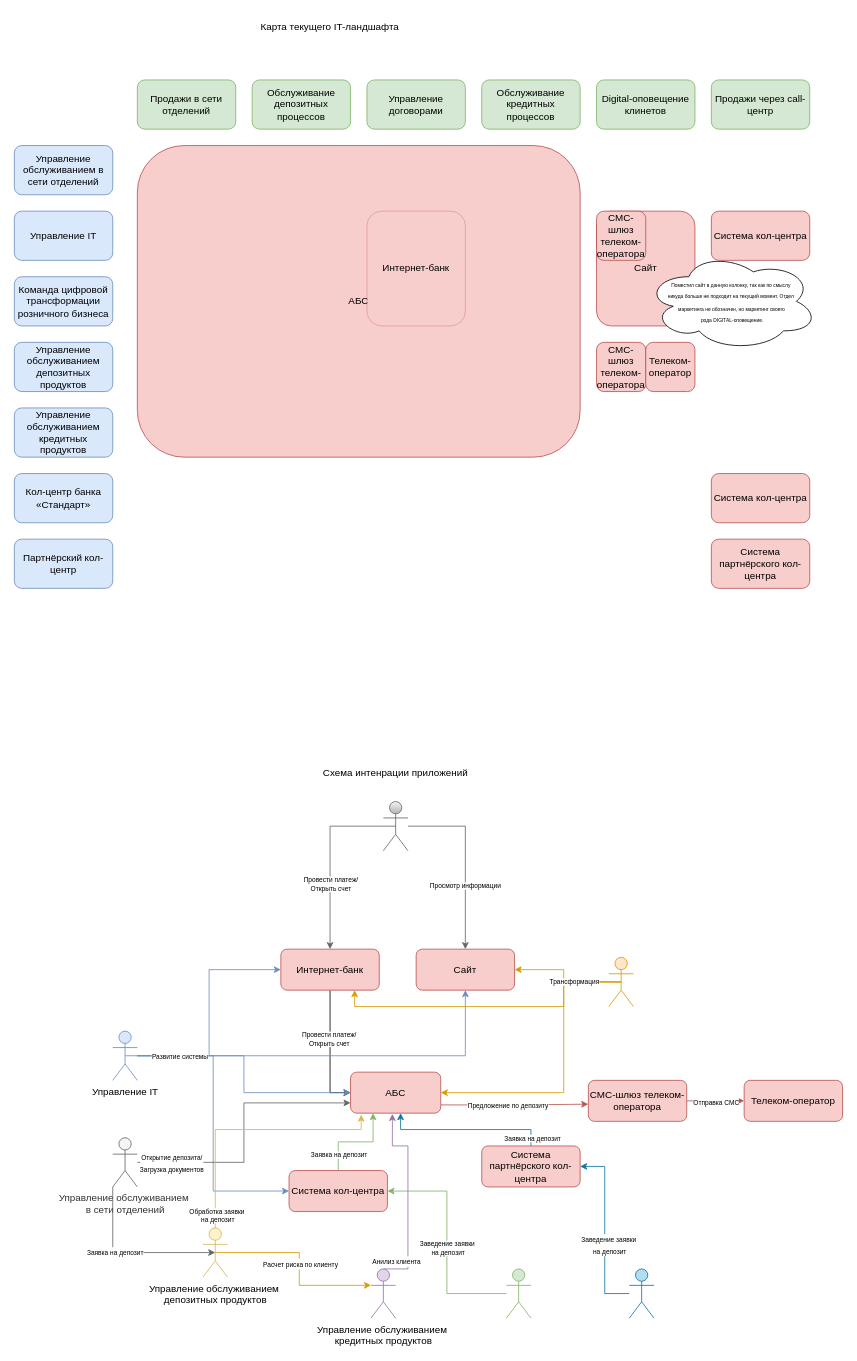
The diagram is 857 pixels wide and 1361 high, and some of its shapes have lost their labels. Each missing label, with the centre of its shape:
Клиент: point 395,826
Колл-центр банка: point 518,1293
Колл-центр партнера: point 641,1293
Команда цифровой трансформации: point 620,982
